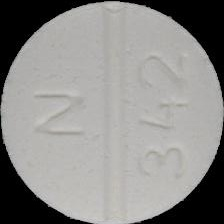35356-995: (0, 0, 224, 224)
